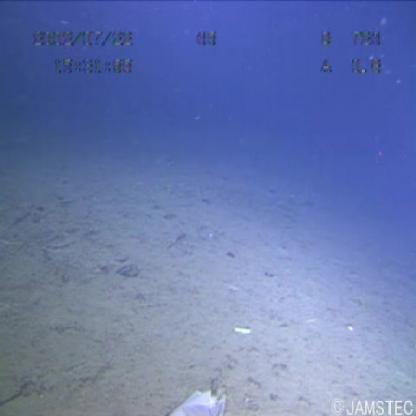Rác: (168, 387, 225, 416)
